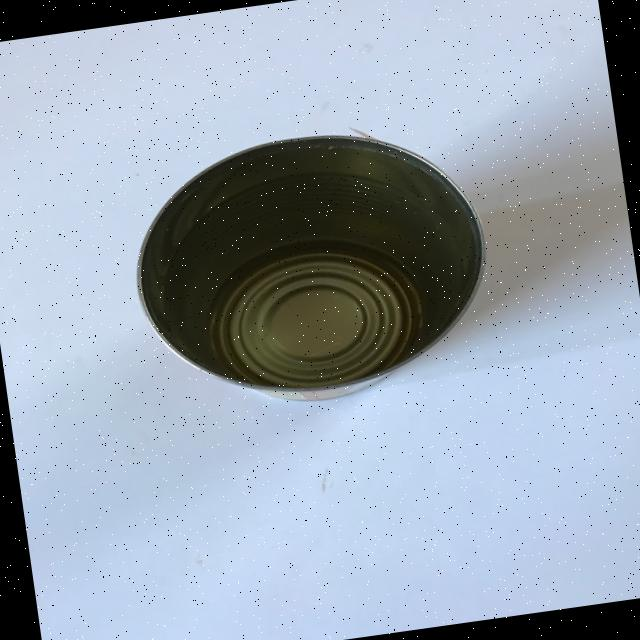metal: (118, 111, 504, 424)
